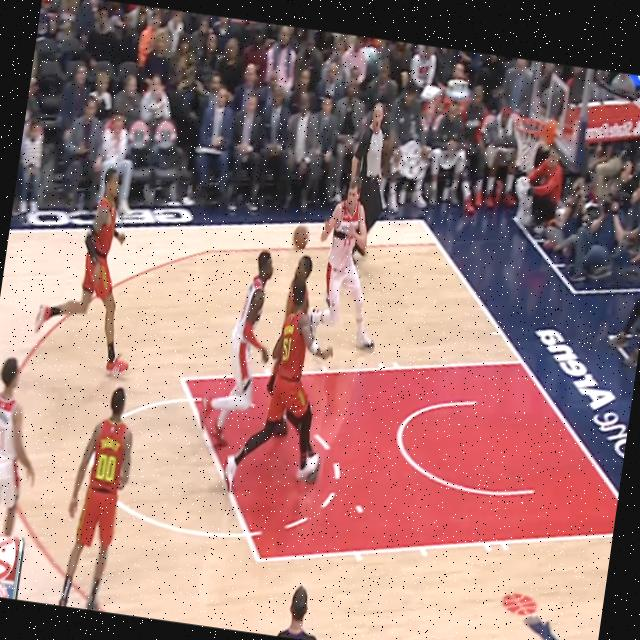no foul: (176, 168, 408, 519)
